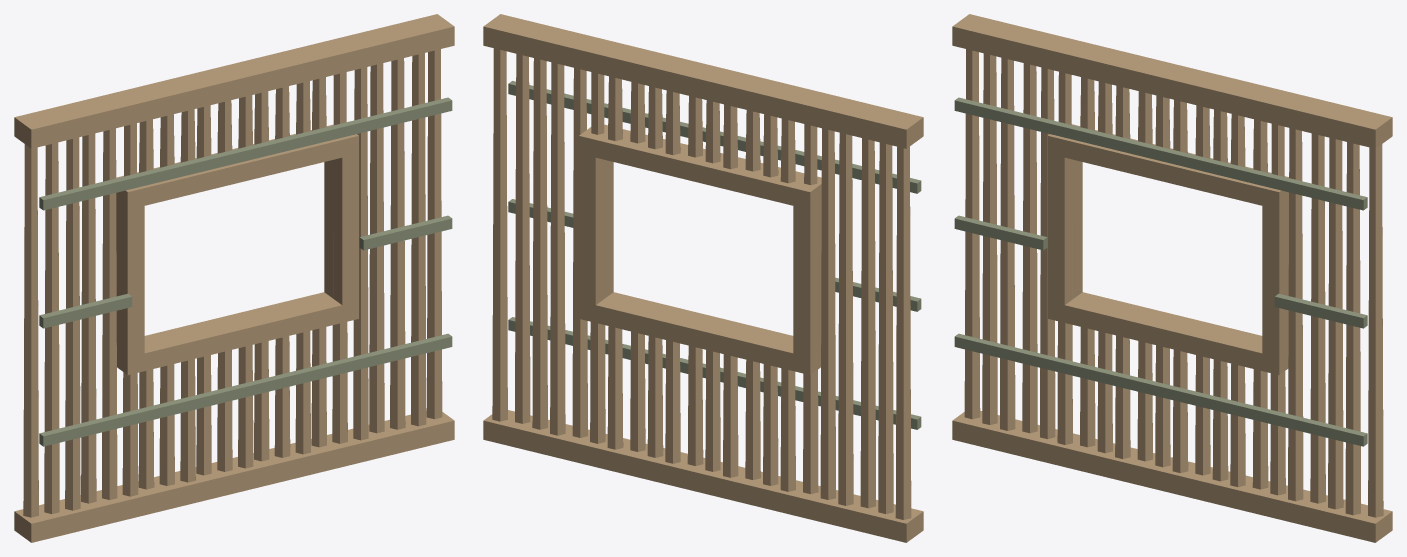
The model's file is wipe-day-survival-island-twig-window-wall-6a5939d2__27496.glb.
3 views of the same model, side by side, from view 1: azimuth 30°, elevation 25°; view 2: azimuth 150°, elevation 25°; view 3: azimuth 330°, elevation 25° (orthographic).
Visible parts, largest first — view 1: twig-window-wall; view 2: twig-window-wall; view 3: twig-window-wall.
Boxes of the visible parts, box(x1,y1,x2,y2) form: twig-window-wall: box(14, 14, 454, 542); twig-window-wall: box(483, 14, 923, 542); twig-window-wall: box(952, 14, 1392, 542).
Size of the model in its own units: 3 by 2.8 by 0.275.
